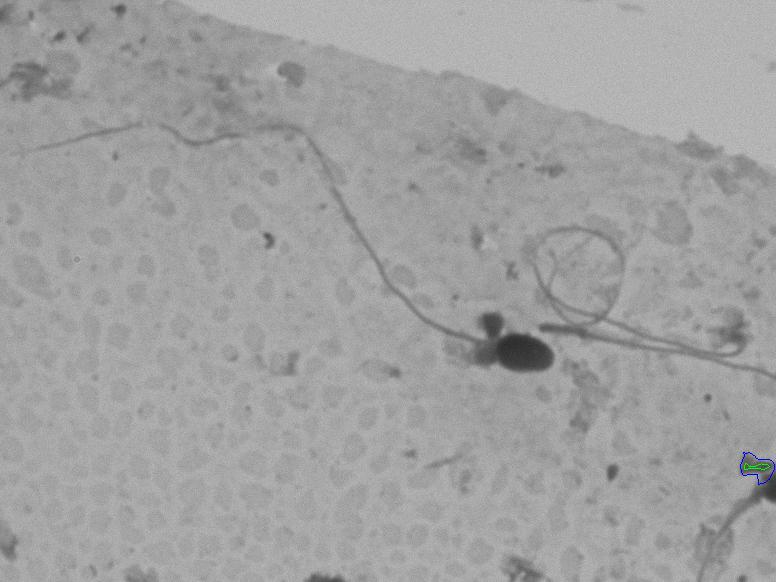Abnormal: (51, 95, 554, 396)
